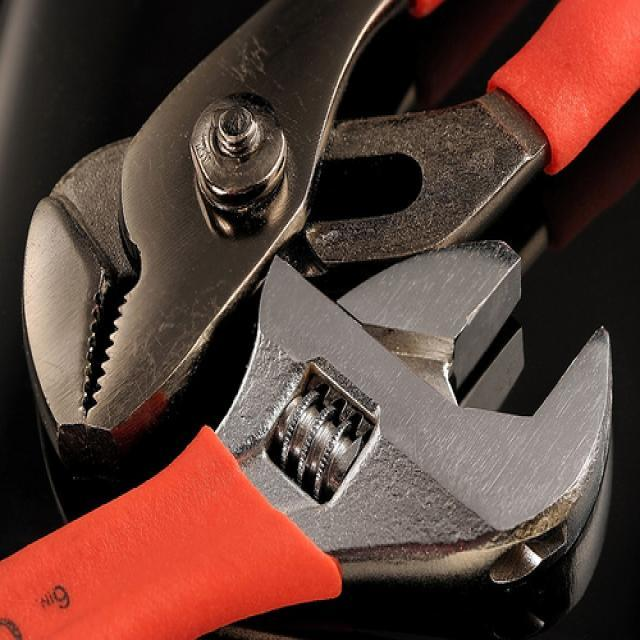pliers: (13, 0, 335, 474)
wrench: (0, 232, 623, 640)
